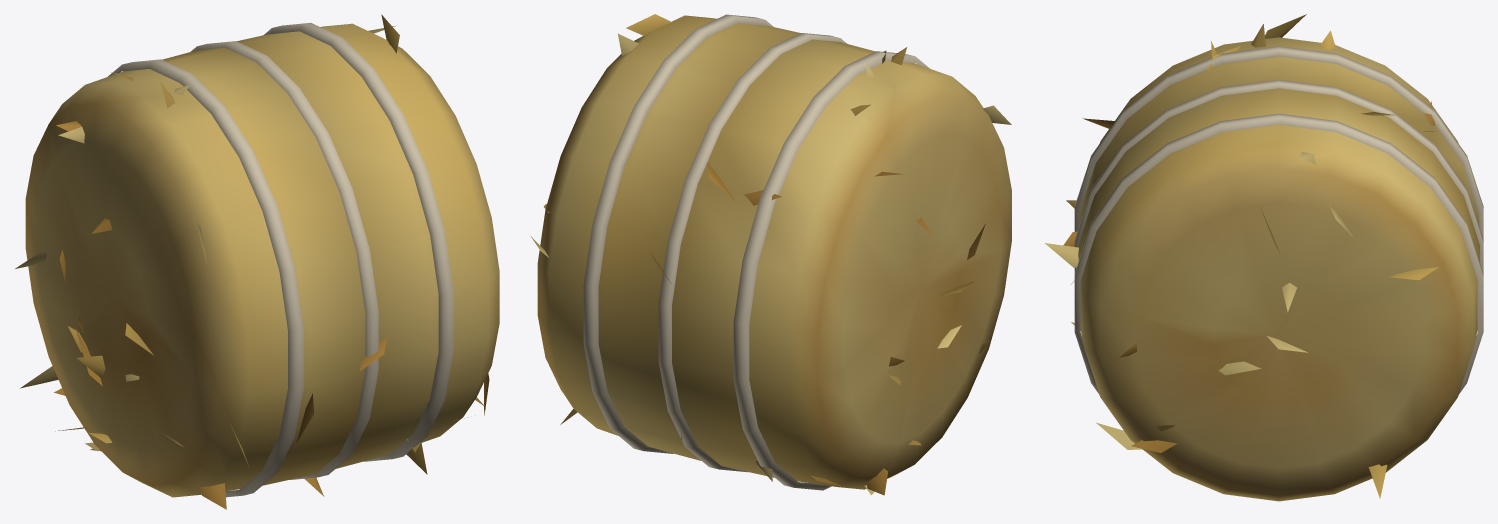
The model's file is prop.hay_bale.glb.
3 renders of one model, left to right at view 1: azimuth 30°, elevation 25°; view 2: azimuth 150°, elevation 25°; view 3: azimuth 270°, elevation 25°, orthographic. The views are drawn at different scales.
Visible parts, largest first — view 1: roll; view 2: roll; view 3: roll.
Part boxes in pixels (x1,y1,x2,y2): roll: (15,14,499,509); roll: (531,14,1011,495); roll: (1045,14,1483,501).
Size of the model in its own units: 1.35 by 1.62 by 1.65.
